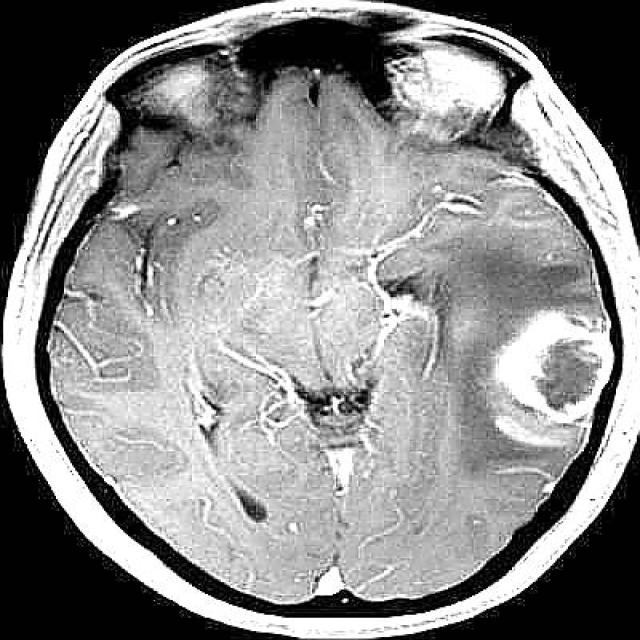Tumor-Cell: (473, 285, 611, 414)
